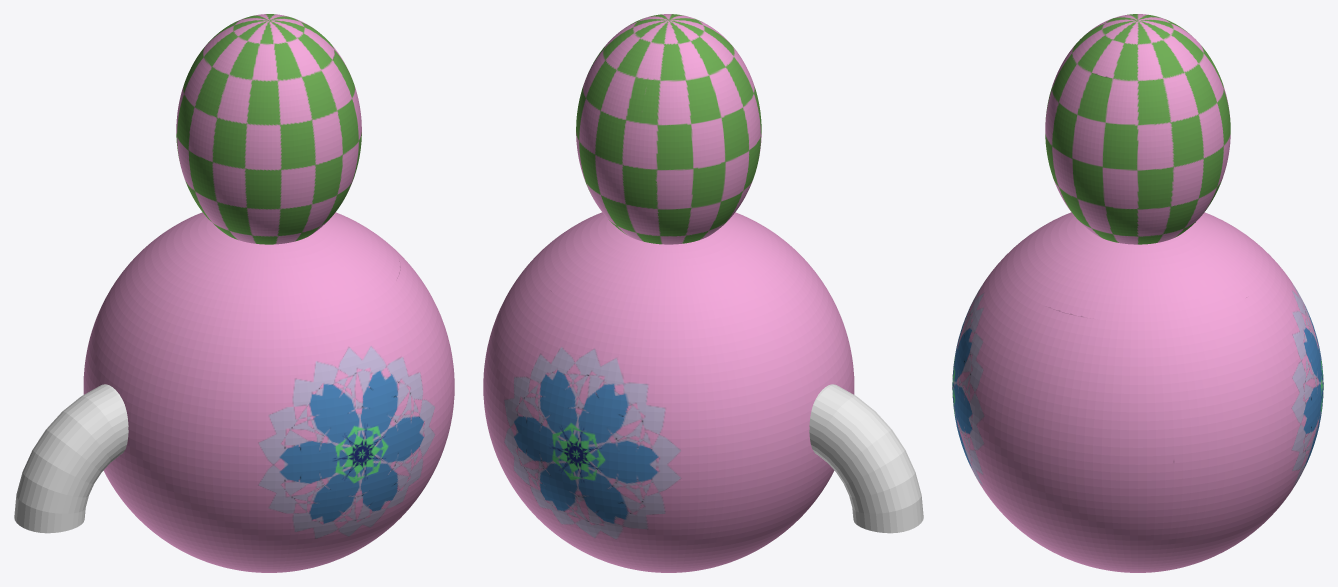
The model's file is BOD0_BMC3_BCC17_BPT0_FRC11_HEA2_HMC7_HCC17_HPT4_ELT0_ERT0_ELL0_ERL2_AP1_AAL2_AAR0_BEK0.fbx.
3 views of the same model, side by side, from view 1: azimuth 30°, elevation 25°; view 2: azimuth 150°, elevation 25°; view 3: azimuth 270°, elevation 25° (orthographic).
Visible parts, largest first — view 1: Body, Arm; view 2: Body, Arm; view 3: Body.
Part boxes in pixels (x1=…): Body: x1=83, y1=14, x2=454, y2=572; Arm: x1=14, y1=384, x2=128, y2=533; Body: x1=483, y1=14, x2=854, y2=572; Arm: x1=809, y1=384, x2=923, y2=533; Body: x1=952, y1=14, x2=1323, y2=572.
Size of the model in its own units: 62.99 by 78.65 by 49.36.
1 material, 1 textured.
